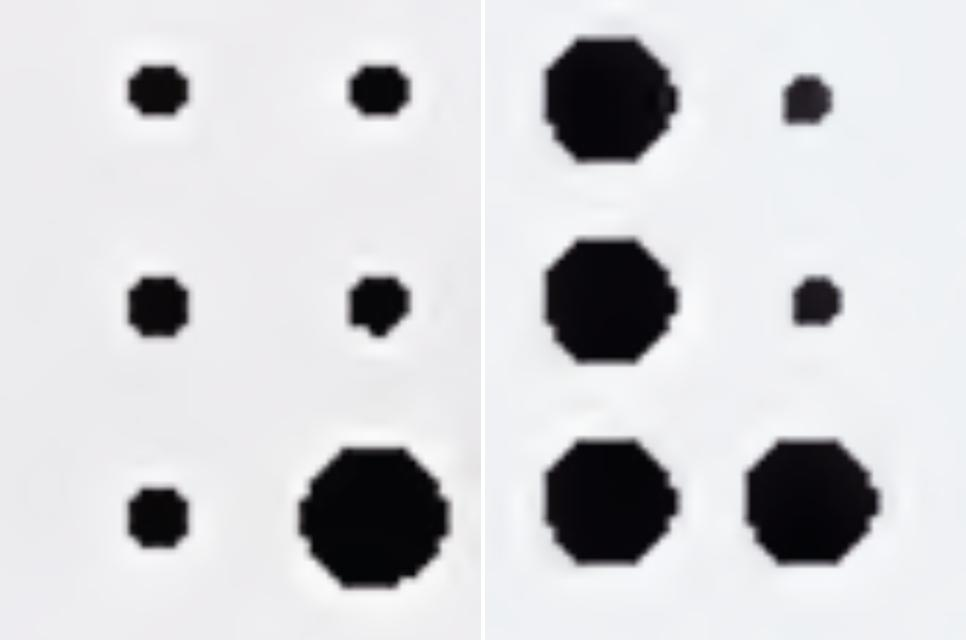V: (542, 32, 880, 565)
capital: (125, 57, 454, 590)
